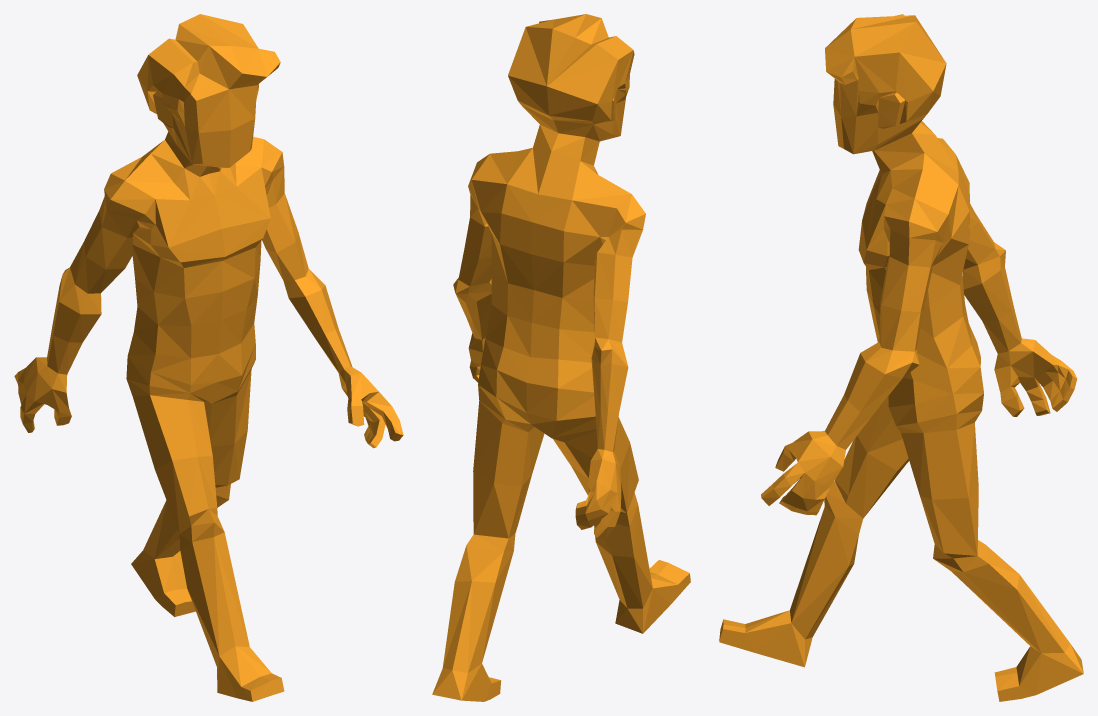
Rendered from SM_Pawn_Walk_Male_01.fbx.
3 renders of one model, left to right at view 1: azimuth 30°, elevation 25°; view 2: azimuth 150°, elevation 25°; view 3: azimuth 270°, elevation 25°, orthographic. The views are drawn at different scales.
Visible parts, largest first — view 1: SM_Pawn_Walk_Male_01; view 2: SM_Pawn_Walk_Male_01; view 3: SM_Pawn_Walk_Male_01.
Part boxes in pixels (x1=…): SM_Pawn_Walk_Male_01: x1=14, y1=14, x2=403, y2=701; SM_Pawn_Walk_Male_01: x1=432, y1=14, x2=690, y2=701; SM_Pawn_Walk_Male_01: x1=719, y1=14, x2=1083, y2=701.
Bounding box in the file's own units: 74.32 × 179 × 89.82.
